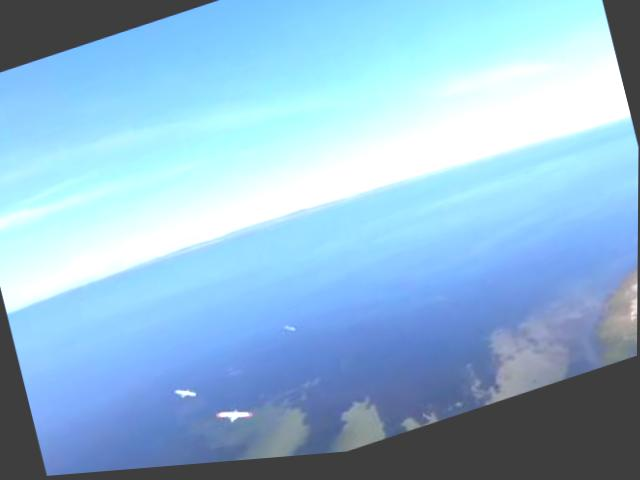uav: (215, 403, 257, 432), (172, 384, 198, 407)
